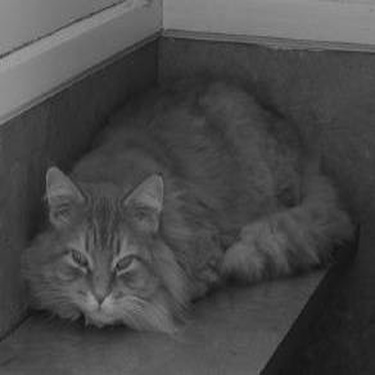cat: (6, 54, 361, 344)
